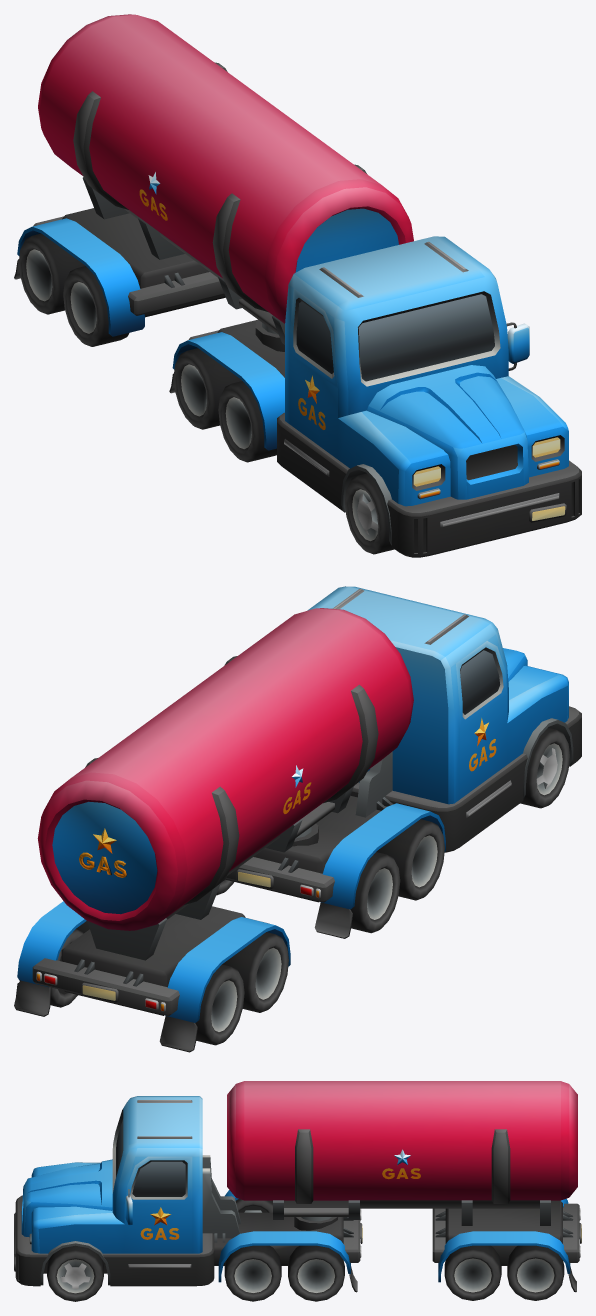
File: Car_21A.fbx
The picture shows the model from 3 angles, top to bottom: view 1: azimuth 30°, elevation 25°; view 2: azimuth 150°, elevation 25°; view 3: azimuth 270°, elevation 25°; orthographic projection. The views are drawn at different scales.
Visible parts, largest first — view 1: Car_21A, Car_21A_Addon, Wheel_21A_R.R, Car_21A_Addon_Wheel_R.R, Wheel_21A_M.R, Car_21A_Addon_Wheel_F.R, Wheel_21A_F.R; view 2: Car_21A_Addon, Car_21A, Wheel_21A_M.R, Car_21A_Addon_Wheel_F.R, Wheel_21A_R.R, Car_21A_Addon_Wheel_R.R, Wheel_21A_F.R, Car_21A_Addon_Wheel_R.L; view 3: Car_21A_Addon, Car_21A, Wheel_21A_M.L, Wheel_21A_R.L, Car_21A_Addon_Wheel_R.L, Car_21A_Addon_Wheel_F.L, Wheel_21A_F.L, Wheel_21A_M.R.
Part boxes in pixels (left/top/right/bottom): Car_21A: left=169, top=236, right=581, bottom=557; Car_21A_Addon: left=14, top=14, right=413, bottom=344; Wheel_21A_R.R: left=173, top=348, right=241, bottom=429; Car_21A_Addon_Wheel_R.R: left=18, top=233, right=85, bottom=314; Wheel_21A_M.R: left=218, top=381, right=276, bottom=462; Car_21A_Addon_Wheel_F.R: left=63, top=266, right=129, bottom=346; Wheel_21A_F.R: left=345, top=473, right=394, bottom=554; Car_21A_Addon: left=14, top=608, right=413, bottom=1052; Car_21A: left=225, top=586, right=581, bottom=938; Wheel_21A_M.R: left=376, top=819, right=444, bottom=900; Car_21A_Addon_Wheel_F.R: left=222, top=932, right=288, bottom=1012; Wheel_21A_R.R: left=350, top=852, right=400, bottom=933; Car_21A_Addon_Wheel_R.R: left=195, top=964, right=244, bottom=1045; Wheel_21A_F.R: left=520, top=727, right=569, bottom=808; Car_21A_Addon_Wheel_R.L: left=19, top=929, right=83, bottom=1007; Car_21A_Addon: left=227, top=1081, right=581, bottom=1292; Car_21A: left=14, top=1096, right=362, bottom=1292; Wheel_21A_M.L: left=224, top=1245, right=281, bottom=1301; Wheel_21A_R.L: left=288, top=1245, right=344, bottom=1301; Car_21A_Addon_Wheel_R.L: left=507, top=1245, right=564, bottom=1300; Car_21A_Addon_Wheel_F.L: left=444, top=1245, right=501, bottom=1300; Wheel_21A_F.L: left=47, top=1245, right=103, bottom=1301; Wheel_21A_M.R: left=235, top=1199, right=272, bottom=1212.
Bounding box in the file's own units: 320 × 389 × 1088.
